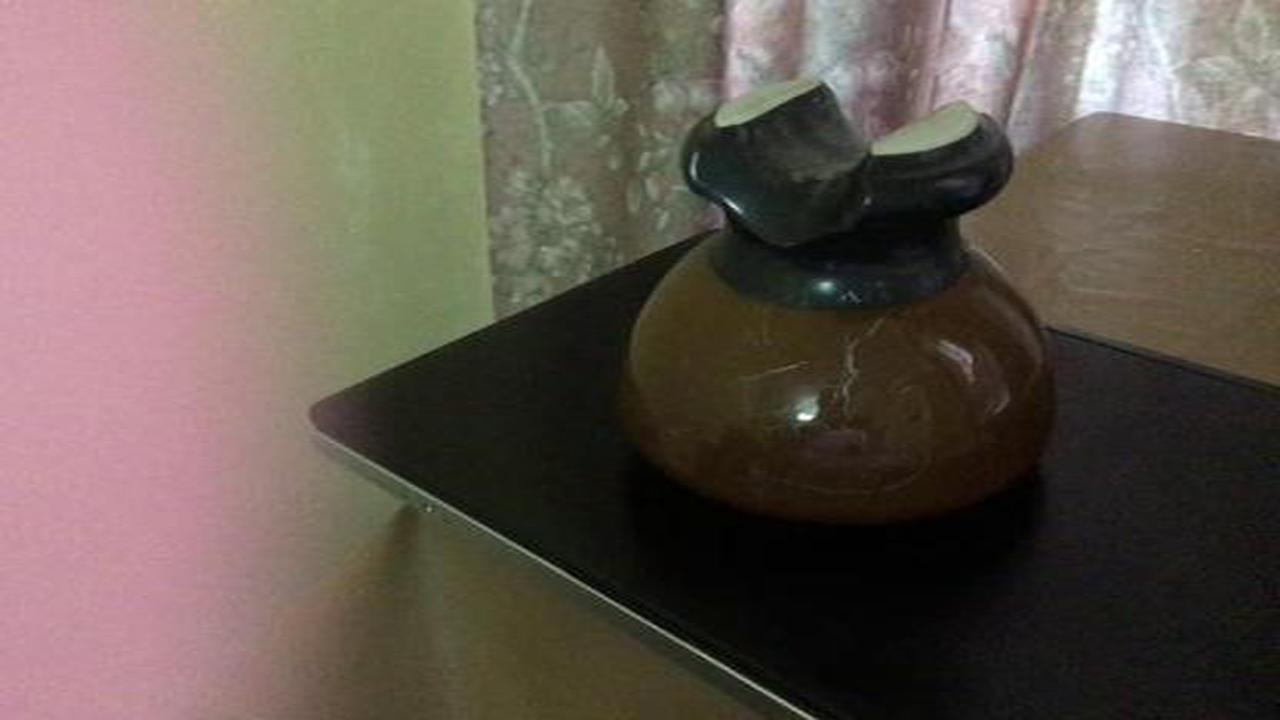insulator_pin: (597, 59, 1093, 547)
